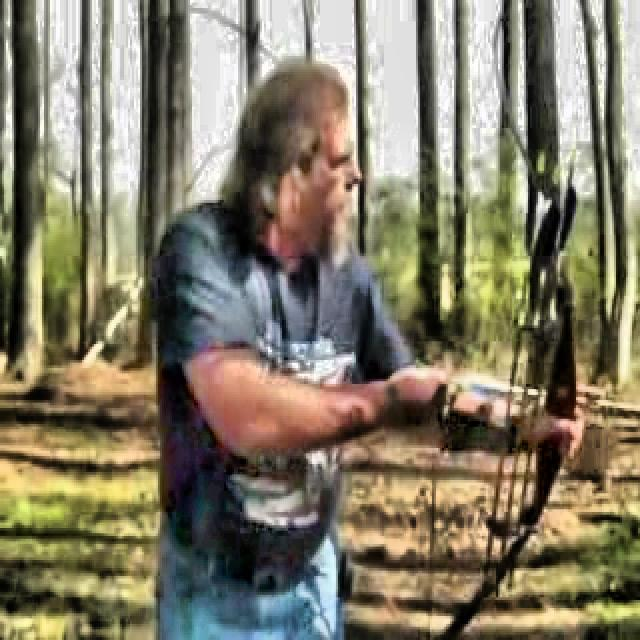I: (143, 47, 596, 640)
